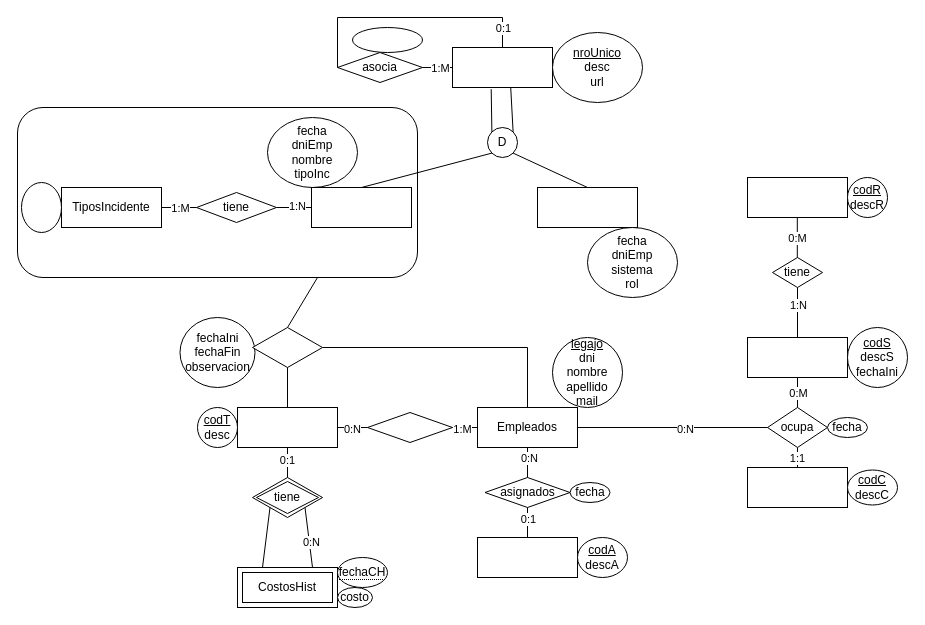
Some shapes in this 925 by 625 pixel diagram are drawn without their labels. The shapes that lost their labels are listed below. From the top down, each one's centre as x and y in pixels, then its label:
At (x=387, y=39): "nroSoli".
At (x=502, y=67): "Solicitudes".
At (x=41, y=207): "codTI desc".
At (x=361, y=207): "Soporte".
At (x=587, y=207): "Acceso".
At (x=797, y=197): "Roles".
At (x=287, y=347): "solucionan".
At (x=797, y=357): "Sistemas".
At (x=287, y=427): "Tareas".
At (x=409, y=427): "realizan".
At (x=797, y=487): "Cargos".
At (x=527, y=557): "Areas".
